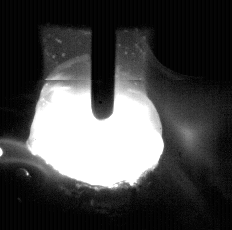arame: (92, 0, 115, 120)
poca: (28, 0, 165, 230)
